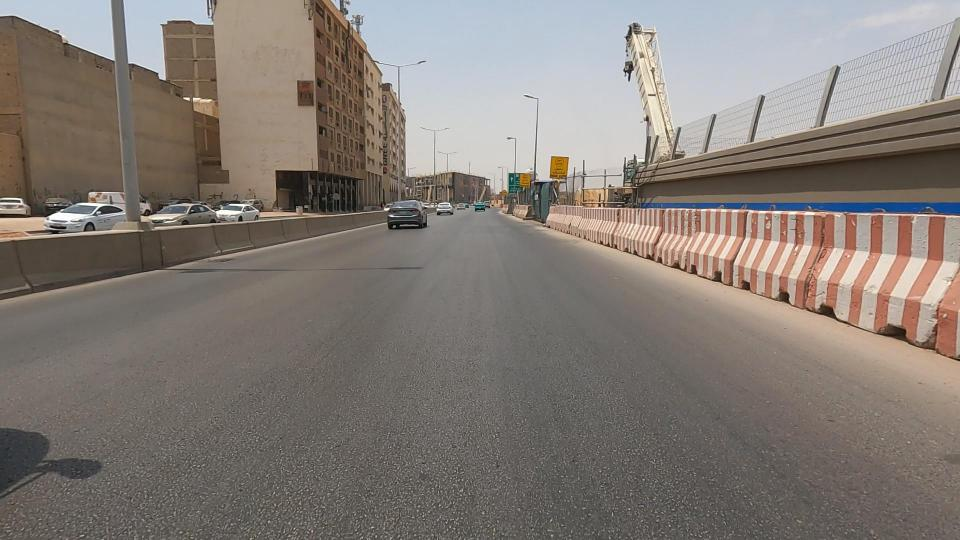CONSTRUCTION_ROAD: (613, 146, 890, 333), (509, 176, 686, 276)
